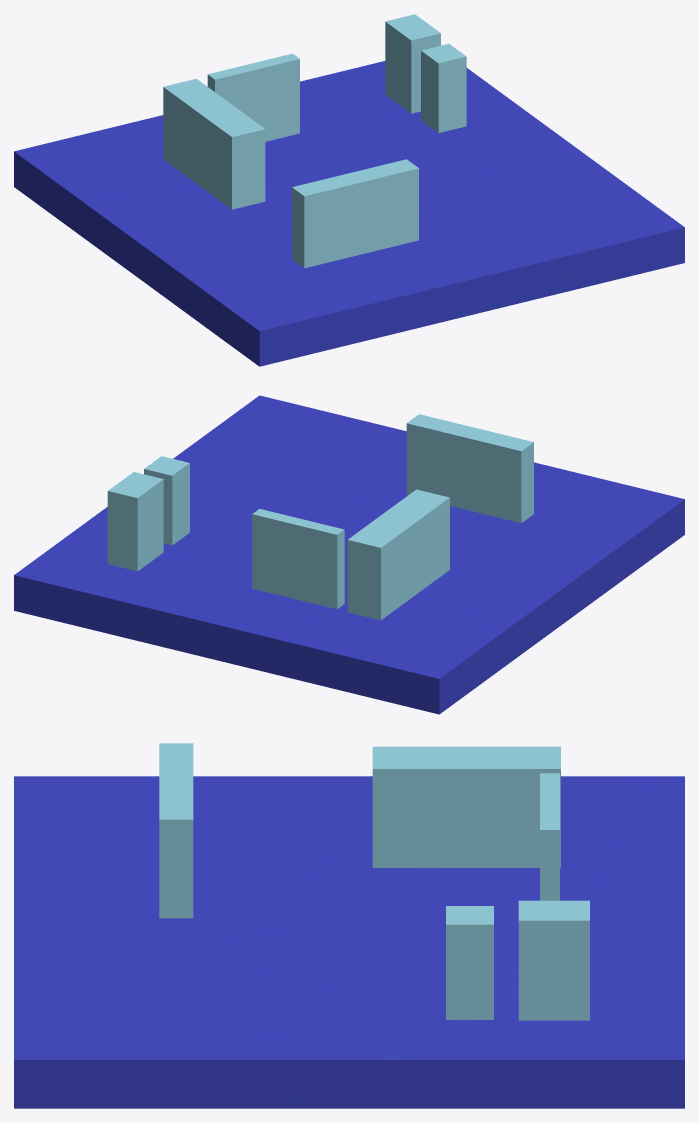
File: debug.fbx
3 views of the same model, one above another, from view 1: azimuth 30°, elevation 25°; view 2: azimuth 150°, elevation 25°; view 3: azimuth 270°, elevation 25° (orthographic). The views are drawn at different scales.
Visible parts, largest first — view 1: Box001, Box004, Box003, Box002, Box006, Box005; view 2: Box001, Box004, Box003, Box002, Box005, Box006; view 3: Box001, Box003, Box005, Box004, Box006, Box002.
Part boxes in pixels (x1,y1,x2,y2): Box001: (14, 61, 684, 366); Box004: (292, 159, 418, 268); Box003: (163, 78, 265, 209); Box002: (207, 53, 299, 141); Box006: (421, 44, 466, 132); Box005: (385, 14, 440, 113); Box001: (14, 395, 684, 714); Box004: (406, 414, 533, 523); Box003: (347, 489, 449, 620); Box002: (252, 509, 344, 609); Box005: (107, 472, 163, 571); Box006: (144, 456, 189, 545); Box001: (14, 776, 684, 1108); Box003: (372, 746, 560, 867); Box005: (518, 900, 589, 1020); Box004: (159, 743, 193, 918); Box006: (446, 906, 493, 1019); Box002: (540, 773, 559, 900).
Size of the model in its own units: 1000 by 247 by 1000.
